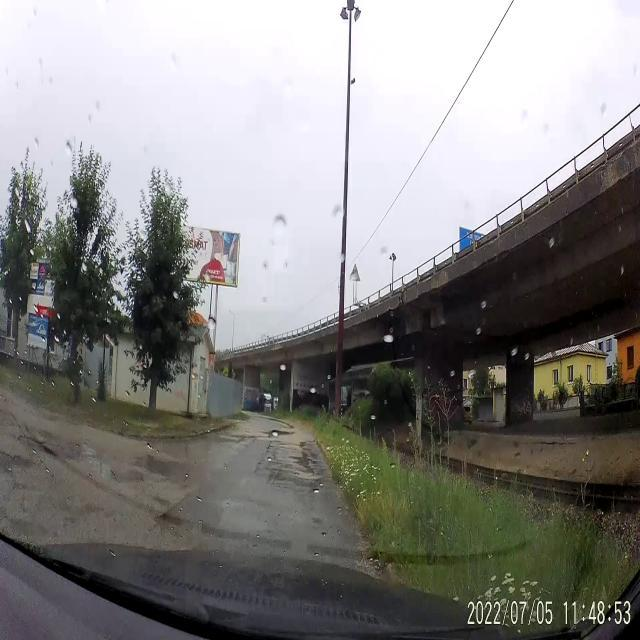Pothole: (295, 436, 317, 491)
